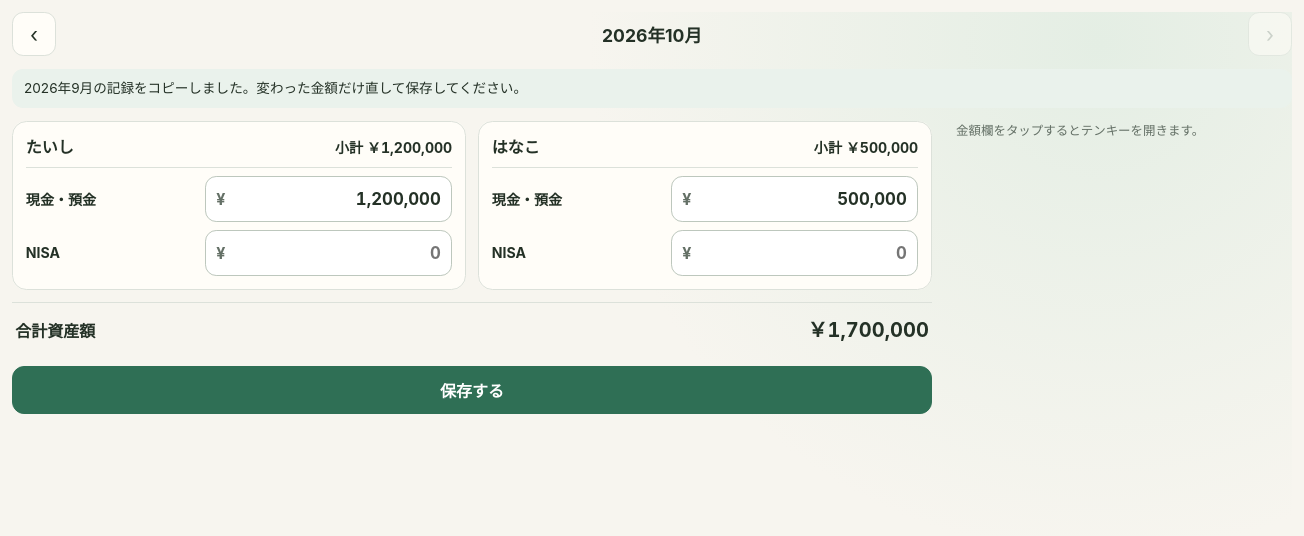
Test: AssetRecordScreen › 金額の入っている欄は最初の数字で置き換え、1文字削除では末尾を削除する (AC-AST-002-5)
Focus the field labelled "現金・預金" below "たいし" at (336, 199), box left=231, top=177, right=441, bottom=221
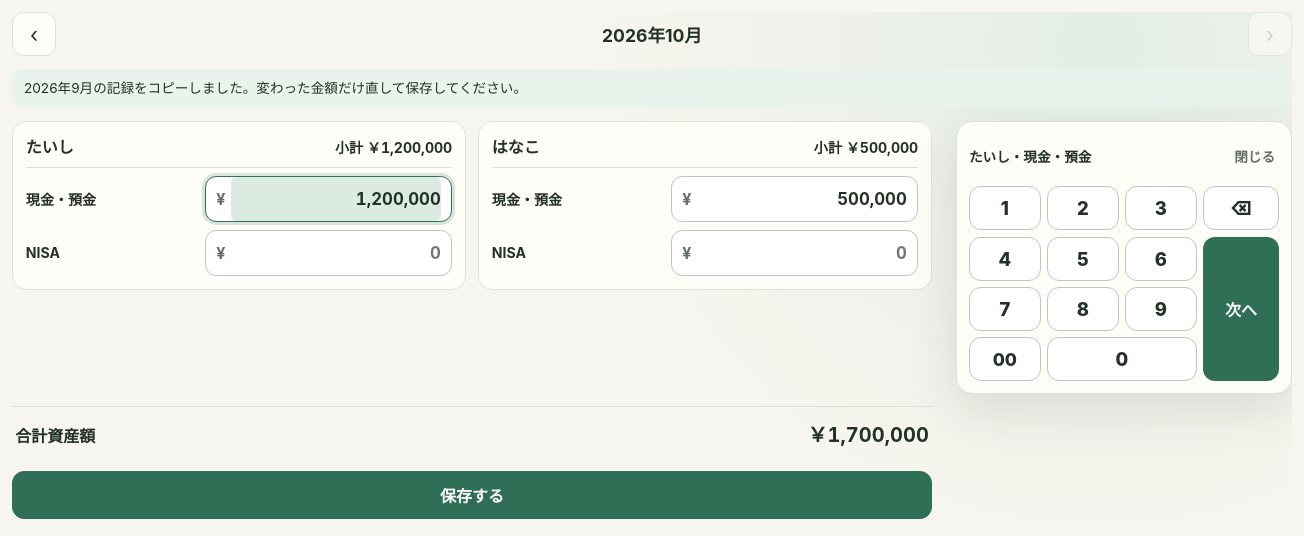
Expected: the element named "現金・預金" is shown, left=205, top=176, right=452, bottom=222
Click the button "2".
click(1083, 208)  # box left=1047, top=186, right=1119, bottom=230
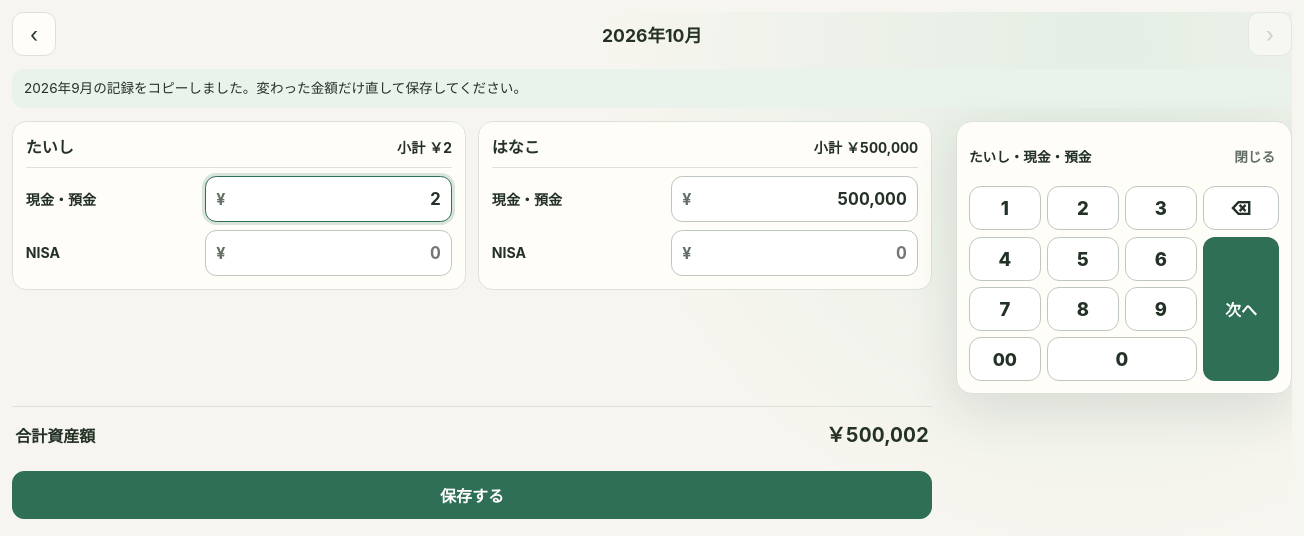
Expected: the field labelled "現金・預金" below "小計 ￥2" holds "2", left=231, top=177, right=441, bottom=221
Click the button "00".
click(1005, 359)  # box left=969, top=337, right=1041, bottom=381
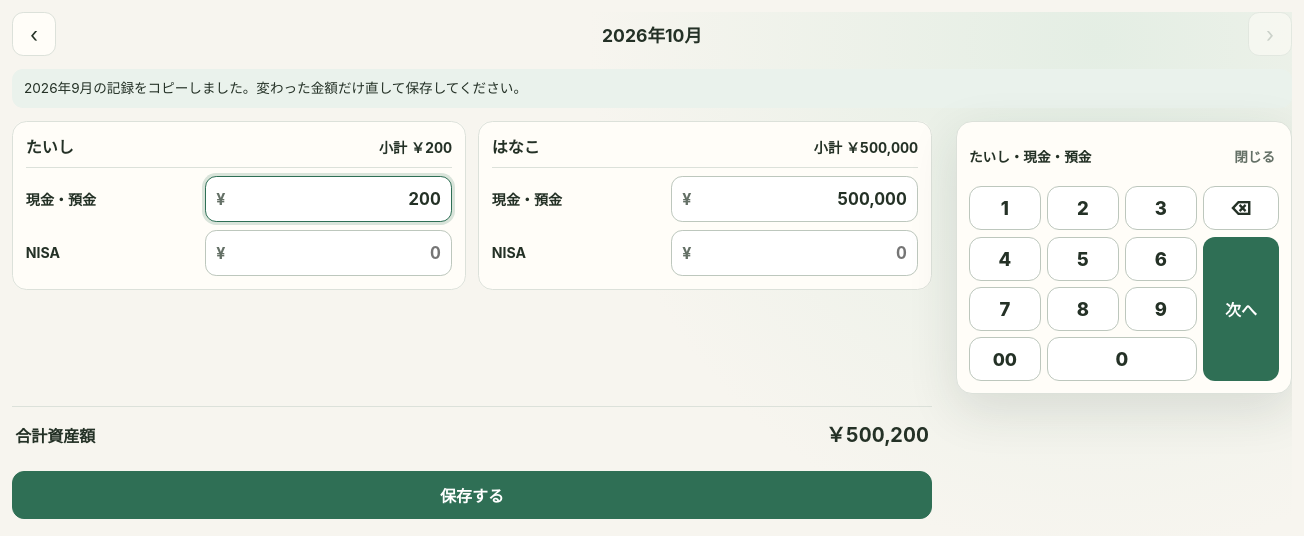
Expected: the field labelled "現金・預金" below "小計 ￥200" holds "200", left=231, top=177, right=441, bottom=221
Focus the field labelled "現金・預金" below "はなこ" at (802, 199), box left=697, top=177, right=907, bottom=221
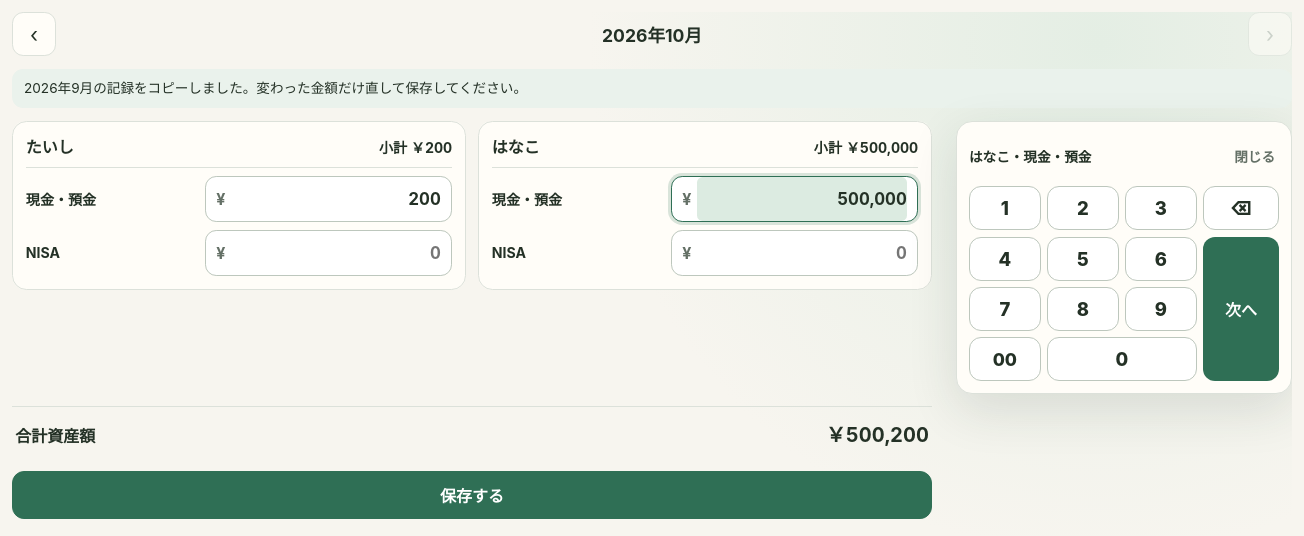
Click the button named "1桁削除".
click(1241, 208)  # box left=1203, top=186, right=1279, bottom=230
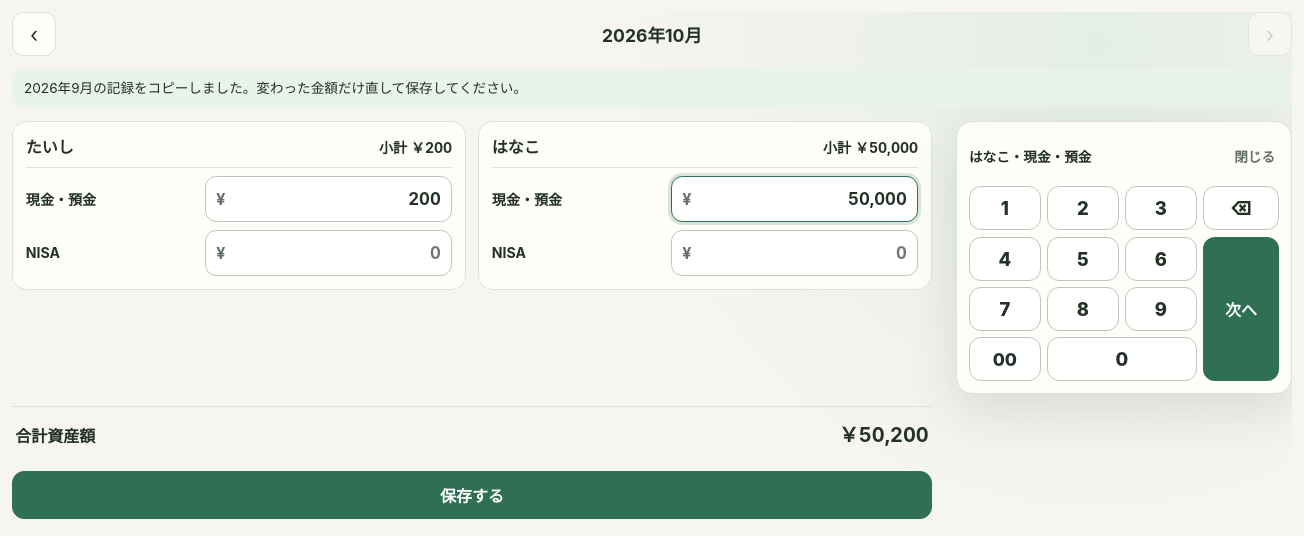
Expected: the field labelled "現金・預金" below "小計 ￥50,000" holds "50,000", left=697, top=177, right=907, bottom=221
Click the button "1".
click(1005, 208)  # box left=969, top=186, right=1041, bottom=230
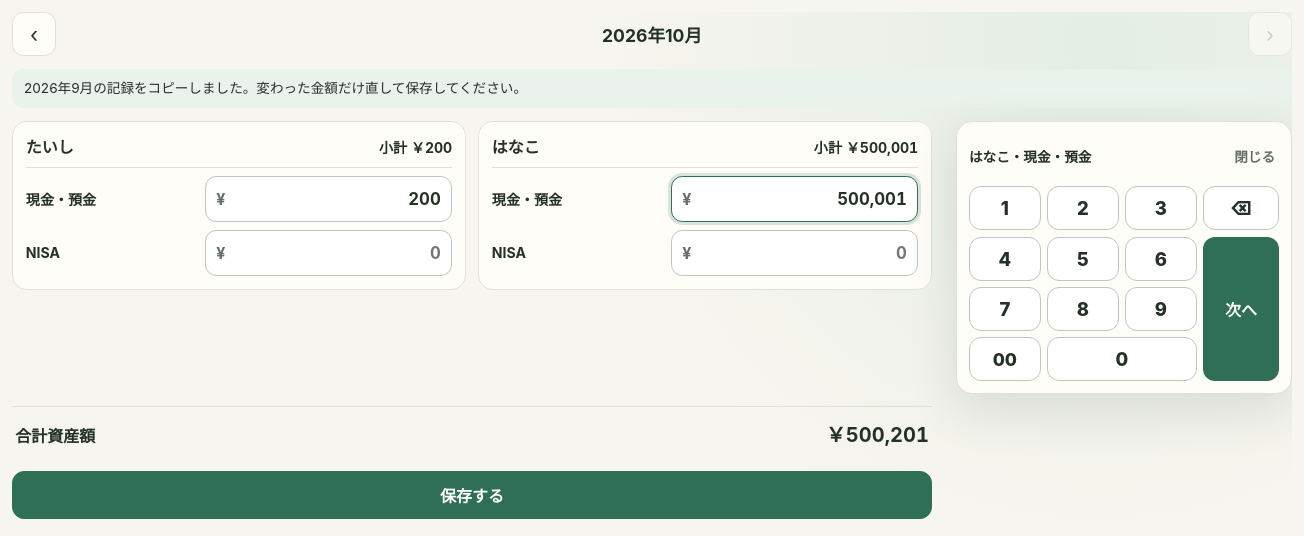
Expected: the field labelled "現金・預金" below "小計 ￥500,001" holds "500,001", left=697, top=177, right=907, bottom=221
